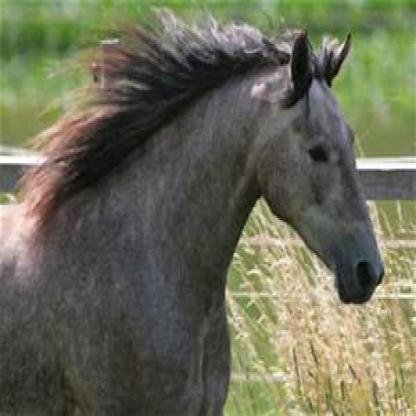horse: (0, 11, 386, 415)
